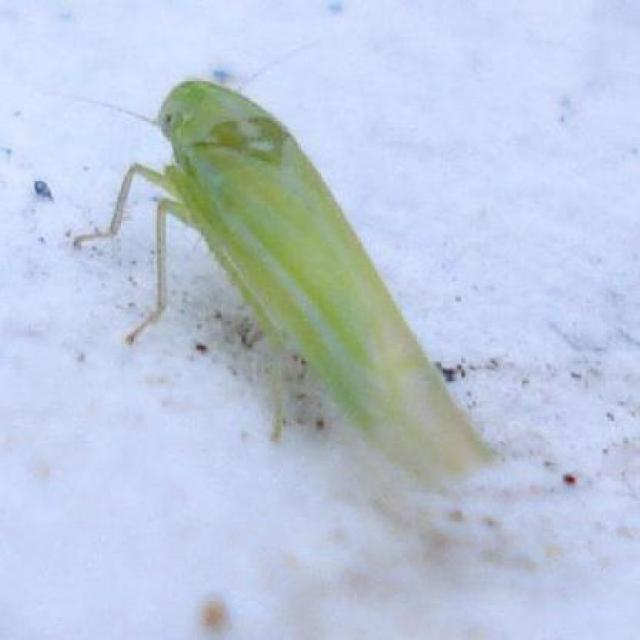green-leafhopper: (160, 77, 498, 475)
